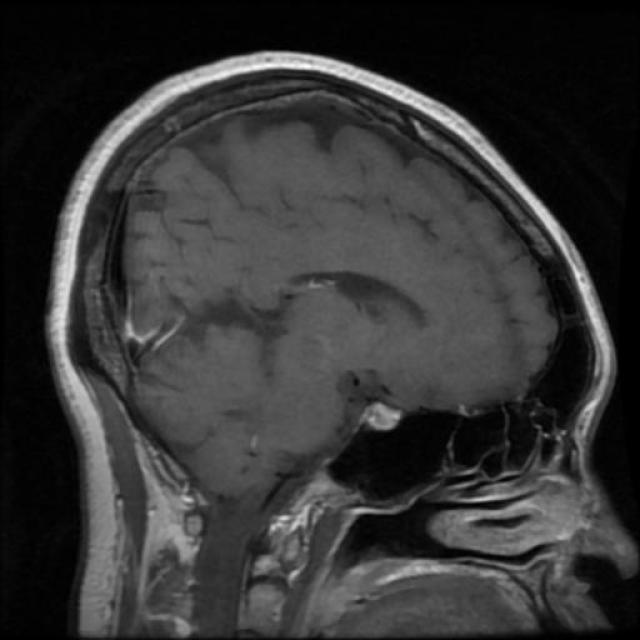pituitary: (350, 386, 412, 442)
